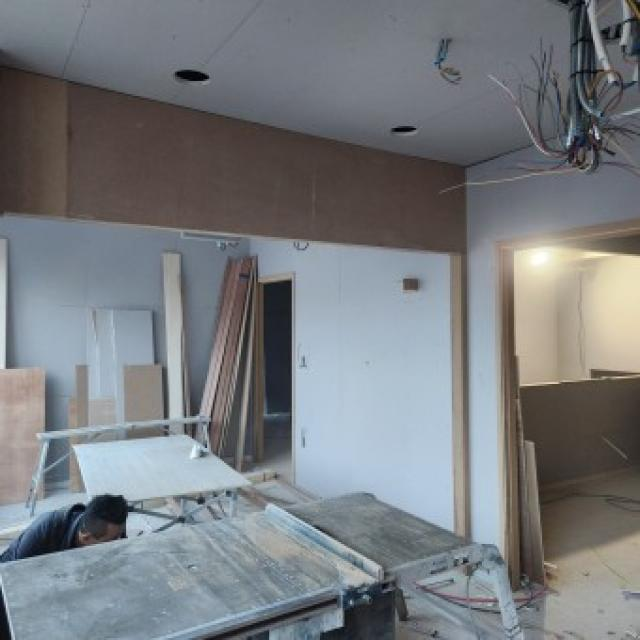board: (86, 308, 154, 427), (0, 367, 46, 507), (123, 364, 163, 439)
wood: (162, 252, 185, 436)
